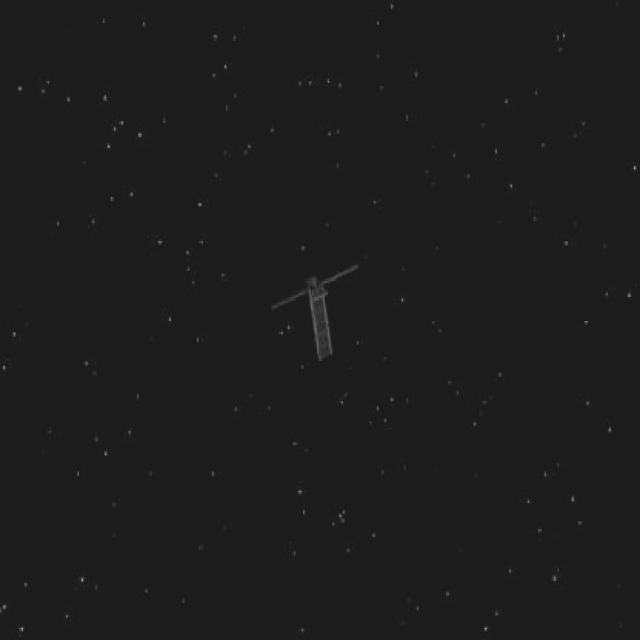medium_debris: (263, 256, 365, 363)
